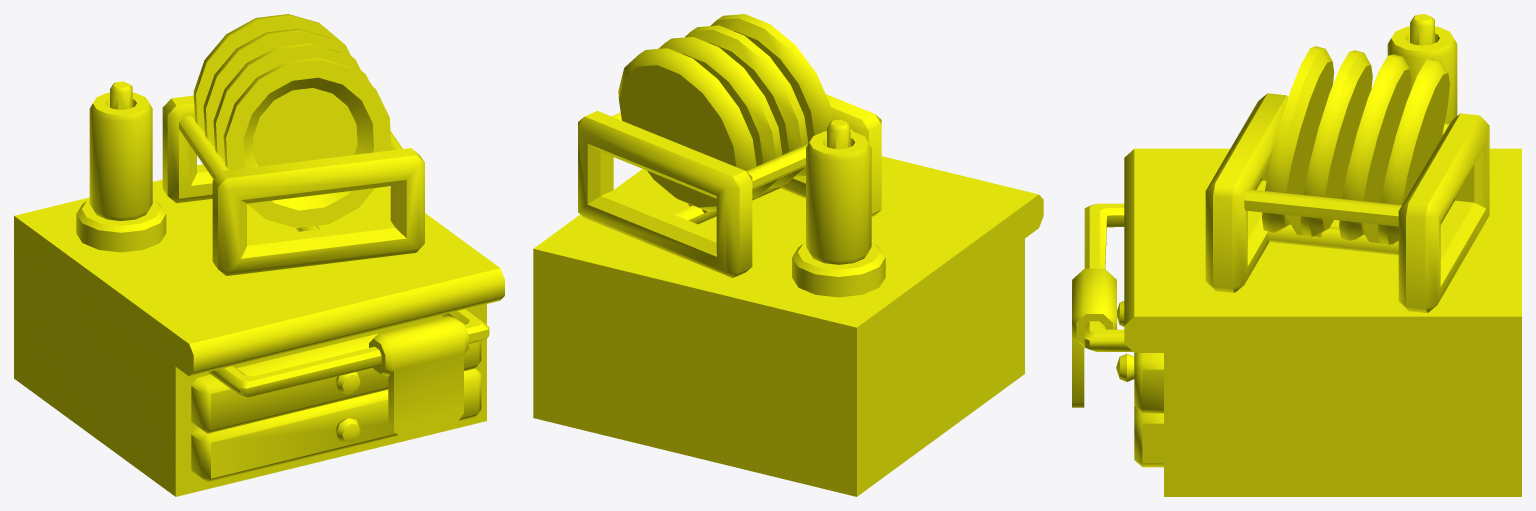
Rendered from kaykit-kitchencounter-straight-a-decorated.glb.
3 views of the same model, side by side, from view 1: azimuth 30°, elevation 25°; view 2: azimuth 150°, elevation 25°; view 3: azimuth 270°, elevation 25° (orthographic). The views are drawn at different scales.
Parts seen in each view (by area): view 1: kitchencounter_straight_A_decorated; view 2: kitchencounter_straight_A_decorated; view 3: kitchencounter_straight_A_decorated.
Boxes of the visible parts, x1,y1,x2,y2 form: kitchencounter_straight_A_decorated: (14,14,504,496); kitchencounter_straight_A_decorated: (533,14,1043,496); kitchencounter_straight_A_decorated: (1072,14,1521,496).
Size of the model in its own units: 2.01 by 2.1 by 2.26.
